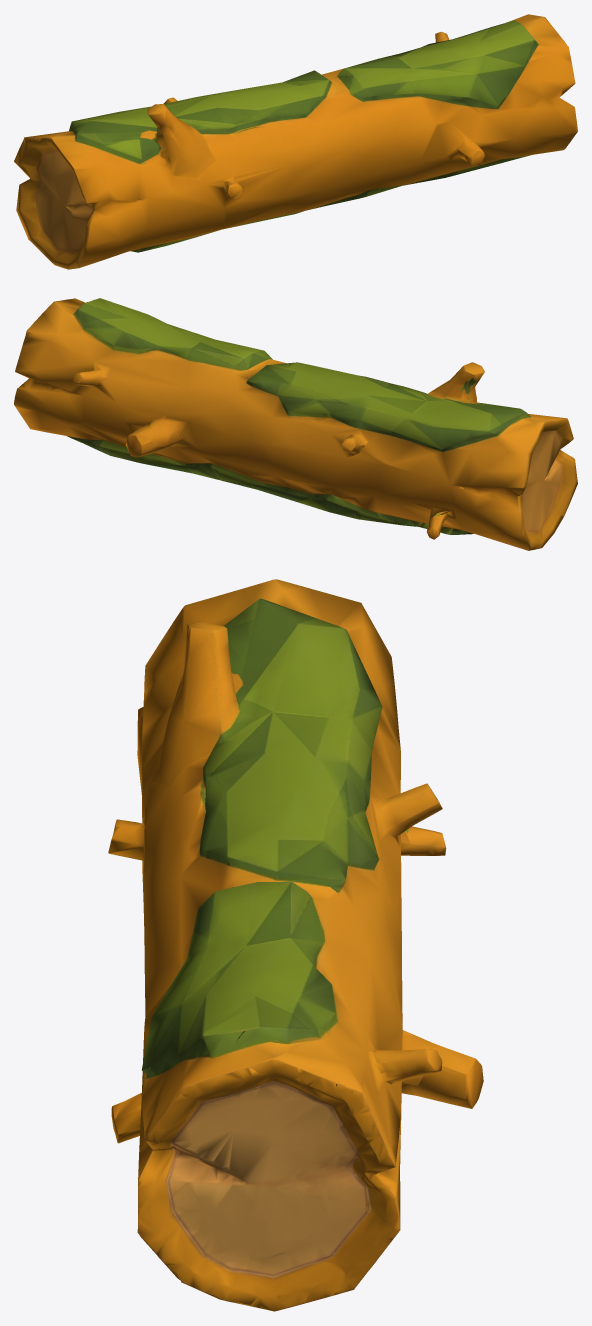
Rendered from Meshy_AI_Low_Poly_Log_0811080727_texture.glb.
3 views of the same model, one above another, from view 1: azimuth 30°, elevation 25°; view 2: azimuth 150°, elevation 25°; view 3: azimuth 270°, elevation 25° (orthographic). The views are drawn at different scales.
Visible parts, largest first — view 1: Mesh1.0; view 2: Mesh1.0; view 3: Mesh1.0.
Part boxes in pixels (bbox=[...]): Mesh1.0: bbox=[14, 14, 577, 269]; Mesh1.0: bbox=[14, 298, 577, 550]; Mesh1.0: bbox=[108, 579, 483, 1311].
Bounding box in the file's own units: 1.9 × 0.5337 × 0.6084.
1 material, 1 textured.
